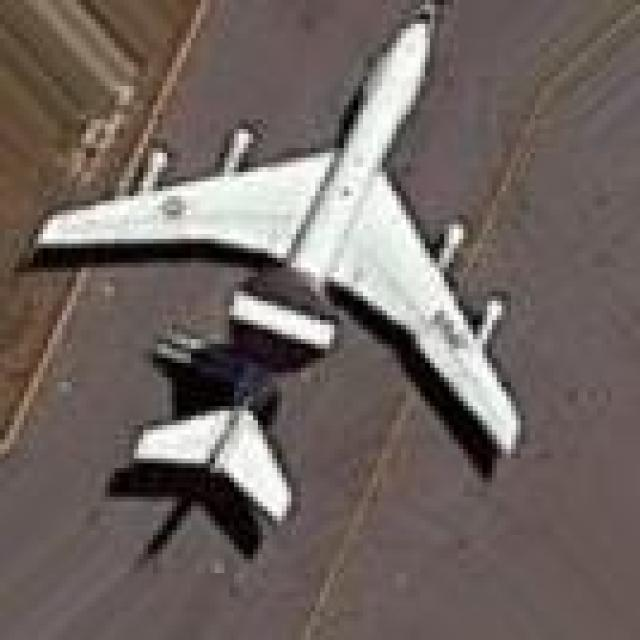E-3_TopDown: (14, 0, 531, 568)
